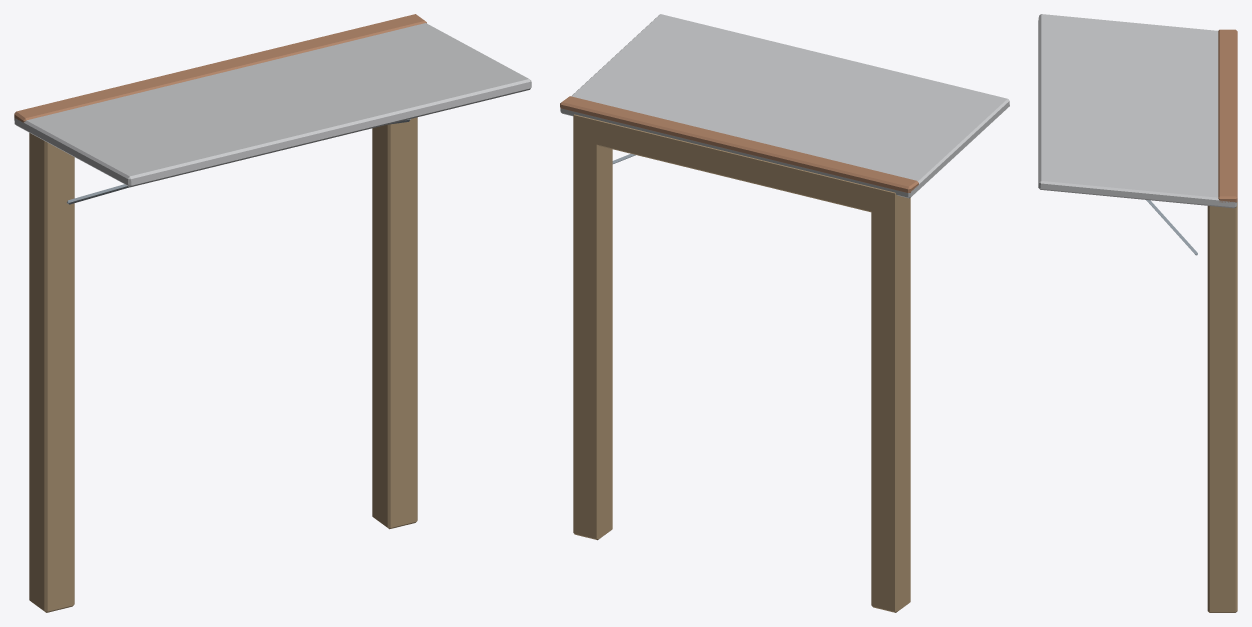
File: porch.glb
3 renders of one model, left to right at view 1: azimuth 30°, elevation 25°; view 2: azimuth 150°, elevation 25°; view 3: azimuth 270°, elevation 25°, orthographic. The views are drawn at different scales.
Parts seen in each view (by area): view 1: porch; view 2: porch; view 3: porch.
Part boxes in pixels (x1,y1,x2,y2): porch: [14, 14, 531, 612]; porch: [560, 14, 1009, 612]; porch: [1038, 14, 1237, 612].
Size of the model in its own units: 2 by 2.43 by 0.9988.
